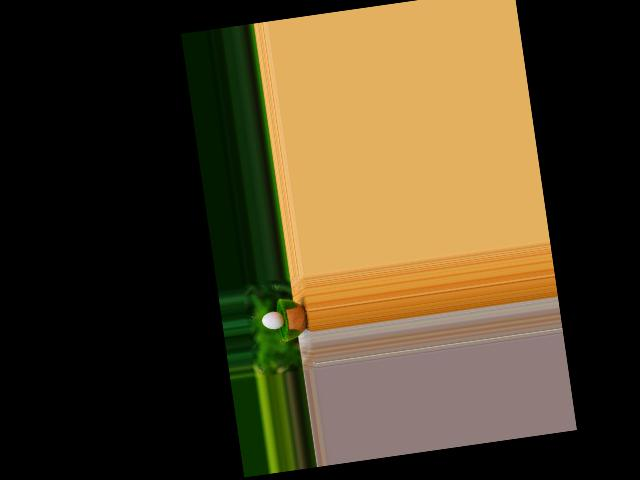egg: (261, 310, 286, 331)
